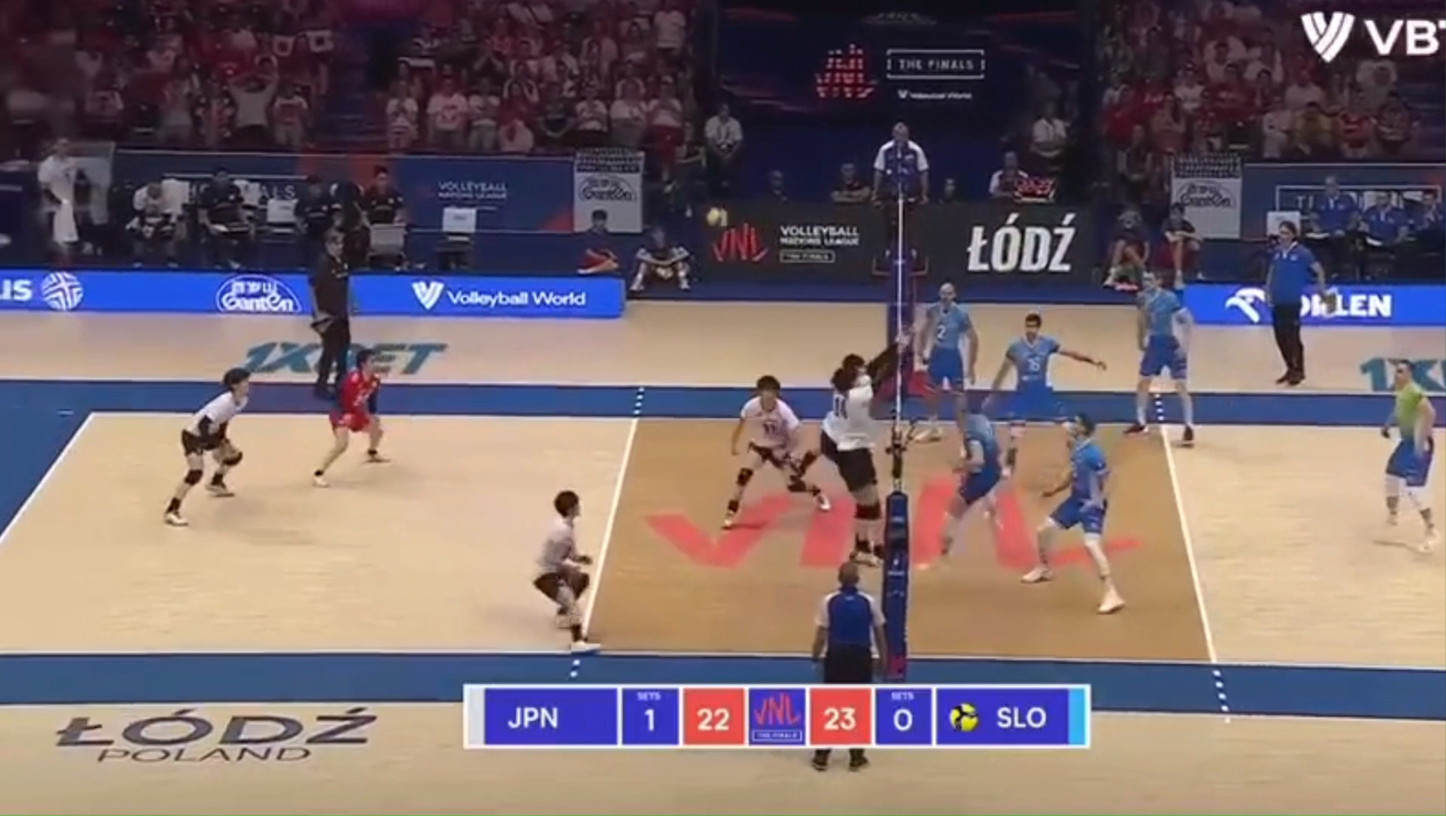ball: (705, 206, 729, 228)
player: (1021, 414, 1123, 614), (992, 312, 1105, 474), (1126, 274, 1194, 446), (913, 283, 978, 440), (1383, 361, 1435, 549), (942, 403, 1003, 555)
player 1: (721, 375, 830, 529), (165, 368, 250, 526), (831, 355, 896, 560), (532, 490, 595, 651), (314, 350, 384, 485), (819, 385, 851, 459), (840, 354, 883, 379)
referee: (1265, 221, 1325, 385), (811, 561, 887, 683), (872, 122, 928, 277), (309, 227, 354, 397), (811, 748, 830, 771), (849, 748, 867, 770)
